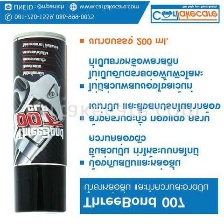aerosol_cans: (9, 29, 72, 216)
